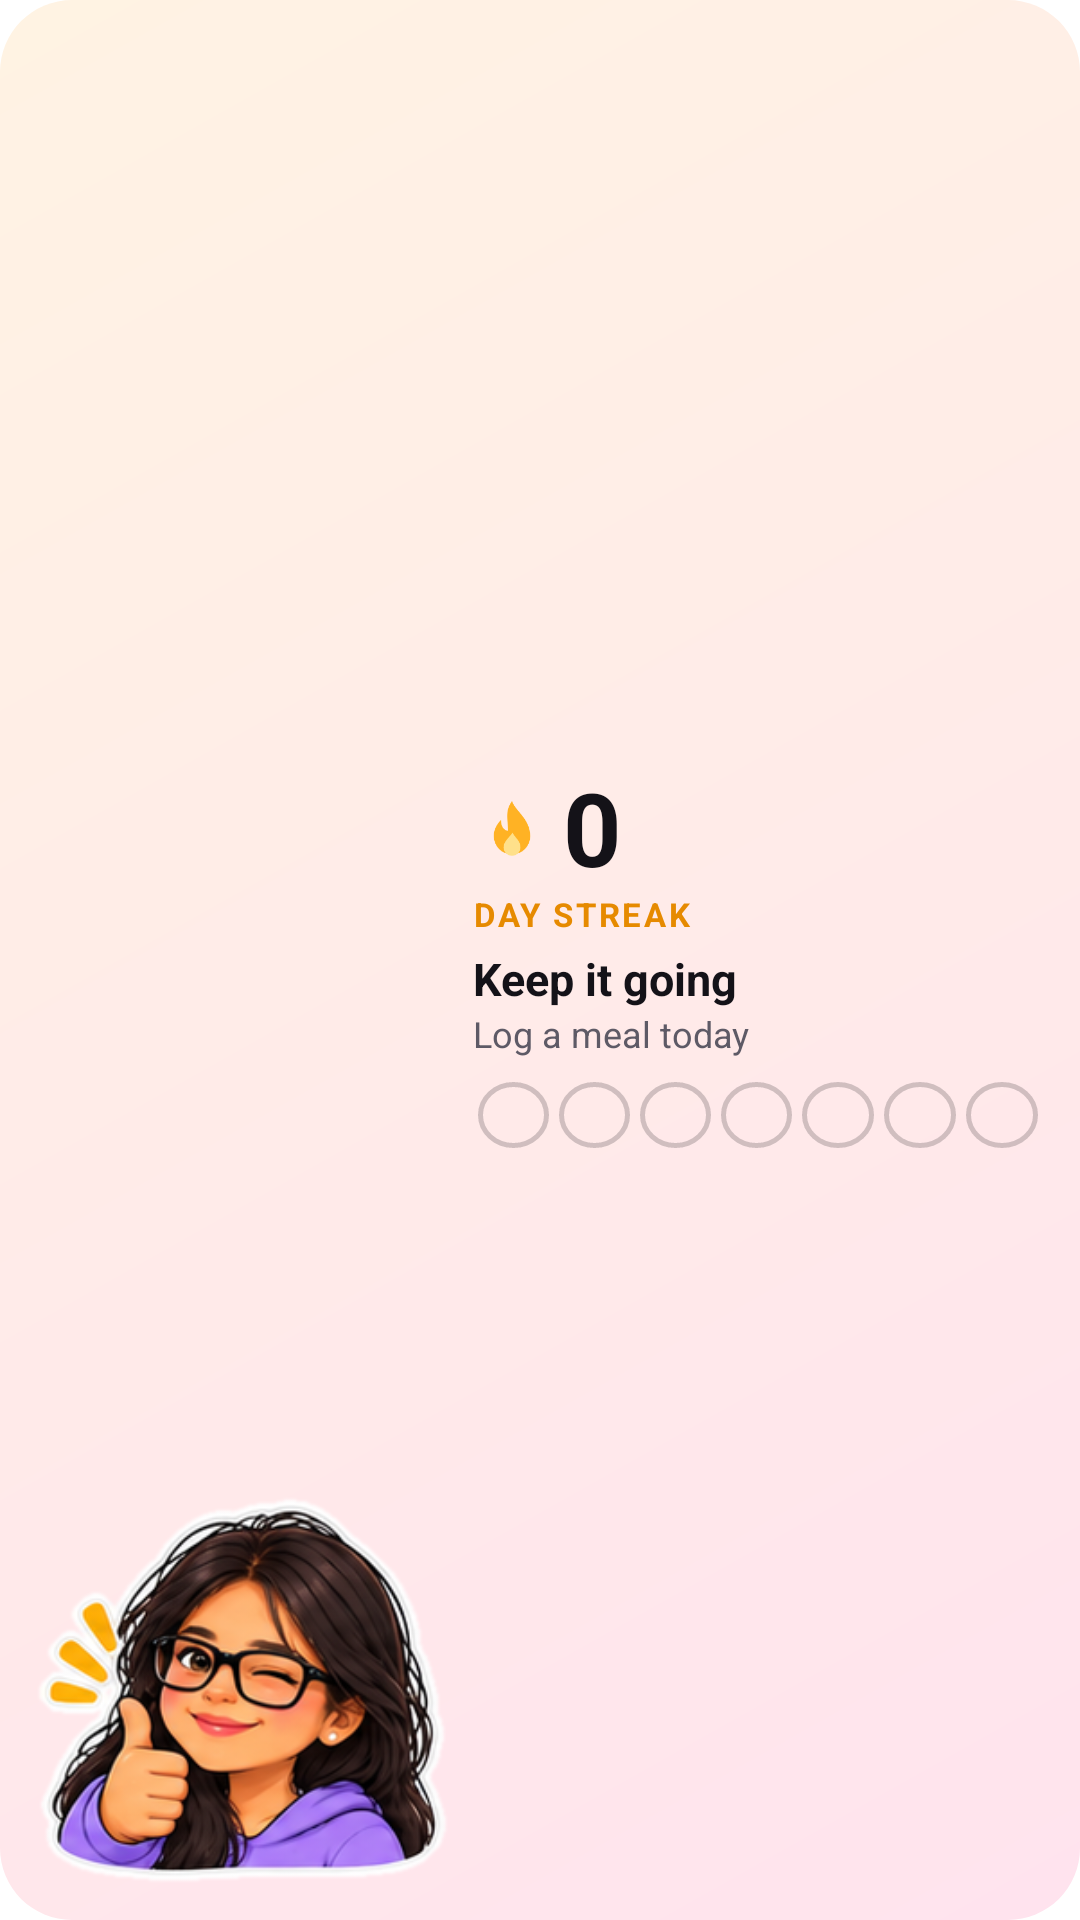

Point at icon controls on the screen. Image size 1080 × 1920, points as (x,y).
widget flame: (512,828)
